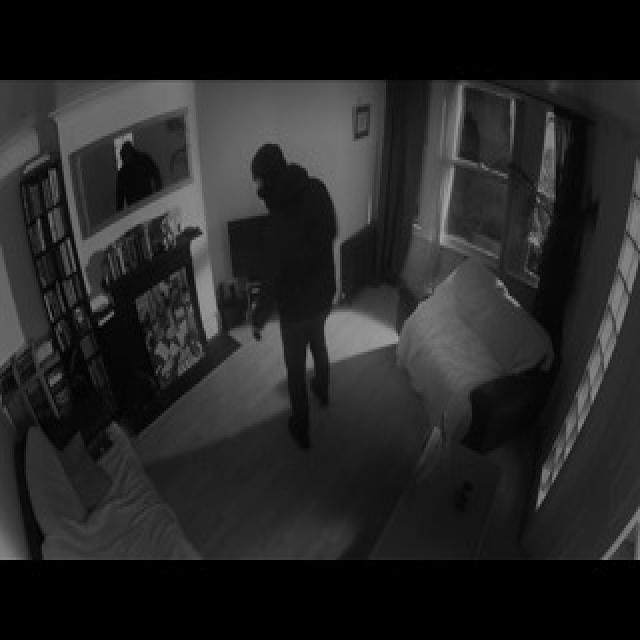thief: (245, 146, 348, 436)
